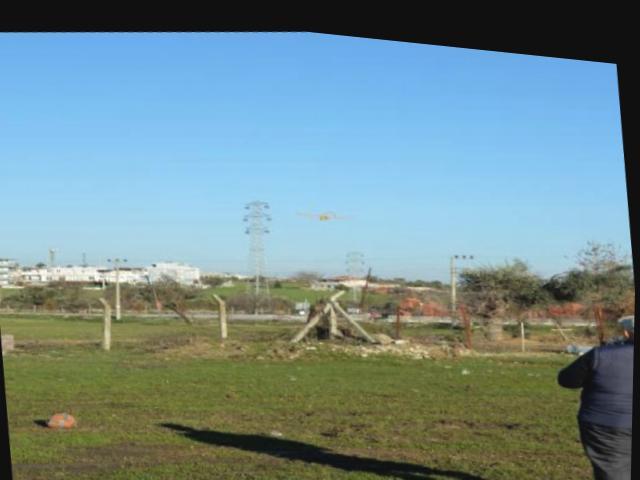iha: (298, 200, 355, 218)
